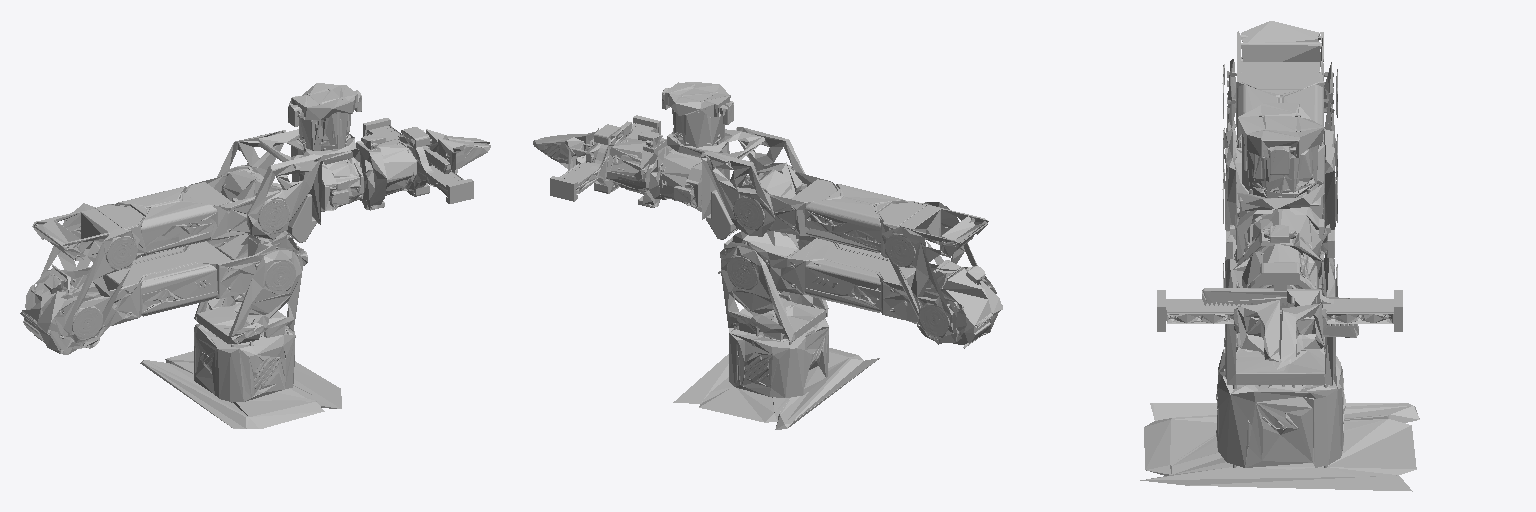
robot.urdf — b601_rs_catalog:
<?xml version="1.0" encoding="utf-8"?>
<!-- This URDF was automatically created by SolidWorks to URDF Exporter! Originally created by Stephen Brawner (brawner@gmail.com) 
     Commit Version: 1.6.0-4-g7f85cfe  Build Version: 1.6.7995.38578
     For more information, please see http://wiki.ros.org/sw_urdf_exporter -->
<robot
  name="b601_rs_catalog">
  <link
    name="base_link">
    <inertial>
      <origin
        xyz="2.87641888266442E-06 -0.000122302488725115 0.0243376121934547"
        rpy="0 0 0" />
      <mass
        value="1.1774" />
      <inertia
        ixx="0.00133040"
        ixy="0.00000001"
        ixz="0.00000000"
        iyy="0.00213119"
        iyz="0.00000000"
        izz="0.00275877" />
    </inertial>
    <visual>
      <origin
        xyz="0 0 0"
        rpy="0 0 0" />
      <geometry>
        <mesh
          filename="assets_catalog/base_link.STL" />
      </geometry>
      <material
        name="">
        <color
          rgba="0.752941176470588 0.752941176470588 0.752941176470588 1" />
      </material>
    </visual>
    <collision>
      <origin
        xyz="0 0 0"
        rpy="0 0 0" />
      <geometry>
        <mesh
          filename="assets_catalog/base_link.STL" />
      </geometry>
    </collision>
  </link>
  <link
    name="link1">
    <inertial>
      <origin
        xyz="0.00817652280320541 0.00122584211922395 0.0331419658967293"
        rpy="0 0 0" />
      <mass
        value="0.4655" />
      <inertia
        ixx="0.00025207"
        ixy="0.00000000"
        ixz="-0.00002832"
        iyy="0.00015464"
        iyz="0.00000000"
        izz="0.00023416" />
    </inertial>
    <visual>
      <origin
        xyz="0 0 0"
        rpy="0 0 0" />
      <geometry>
        <mesh
          filename="assets_catalog/link1.STL" />
      </geometry>
      <material
        name="">
        <color
          rgba="0.752941176470588 0.752941176470588 0.752941176470588 1" />
      </material>
    </visual>
    <collision>
      <origin
        xyz="0 0 0"
        rpy="0 0 0" />
      <geometry>
        <mesh
          filename="assets_catalog/link1.STL" />
      </geometry>
    </collision>
  </link>
  <joint
    name="joint1"
    type="revolute">
    <origin
      xyz="-0.00034283 -0.00098683 0.075"
      rpy="0 0 0" />
    <parent
      link="base_link" />
    <child
      link="link1" />
    <axis
      xyz="0 0 -1" />
    <limit
      lower="-2.8"
      upper="2.8"
      effort="36"
      velocity="50" />
  </joint>
  <link
    name="link2">
    <inertial>
      <origin
        xyz="-0.117864812717456 -0.00342226413942967 -0.0271551938501484"
        rpy="0 0 0" />
      <mass
        value="1.972" />
      <inertia
        ixx="0.00073374"
        ixy="-0.00000043"
        ixz="0.00000851"
        iyy="0.01255987"
        iyz="0.00000128"
        izz="0.01281387" />
    </inertial>
    <!-- <visual>
      <origin
        xyz="0 0 0"
        rpy="0 0 0" />
      <geometry>
        <mesh
          filename="assets_catalog/link2.STL" />
      </geometry>
      <material
        name="">
        <color
          rgba="0.752941176470588 0.752941176470588 0.752941176470588 1" />
      </material>
    </visual> -->
    <visual>
      <origin
        xyz="0 0 0"
        rpy="0 0 0" />
      <geometry>
        <mesh
          filename="assets_catalog/motor_2_3.STL" />
      </geometry>
      <material
        name="">
        <color
          rgba="0.752941176470588 0.752941176470588 0.752941176470588 1" />
      </material>
    </visual>
    <visual>
      <origin
        xyz="0 0 0"
        rpy="0 0 0" />
      <geometry>
        <mesh
          filename="assets_catalog/cnc2.STL" />
      </geometry>
      <material
        name="">
        <color
          rgba="0.752941176470588 0.752941176470588 0.752941176470588 1" />
      </material>
    </visual>
    <visual>
      <origin
        xyz="0 0 0"
        rpy="0 0 0" />
      <geometry>
        <mesh
          filename="assets_catalog/pla2_black.STL" />
      </geometry>
      <material
        name="">
        <color
          rgba="0.752941176470588 0.752941176470588 0.752941176470588 1" />
      </material>
    </visual>
    <visual>
      <origin
        xyz="0 0 0"
        rpy="0 0 0" />
      <geometry>
        <mesh
          filename="assets_catalog/pla2_green.STL" />
      </geometry>
      <material
        name="">
        <color
          rgba="0.752941176470588 0.752941176470588 0.752941176470588 1" />
      </material>
    </visual>
    <collision>
      <origin
        xyz="0 0 0"
        rpy="0 0 0" />
      <geometry>
        <mesh
          filename="assets_catalog/link2.STL" />
      </geometry>
    </collision>
  </link>
  <joint
    name="joint2"
    type="revolute">
    <origin
      xyz="0.020343 0.027237 0.07"
      rpy="-1.5708 0 0" />
    <parent
      link="link1" />
    <child
      link="link2" />
    <!-- Axis -Z: Damiao/Seeed motor +angle is opposite SolidWorks export +Z (fixes virtual up/down). -->
    <axis
      xyz="0 0 -1" />
    <!-- Seeed soft limit shoulder_lift ≈ (-170°, +1°); DM teleop is negative. -->
    <limit
      lower="-3.14"
      upper="0.05"
      effort="36"
      velocity="50" />
  </joint>
  <link
    name="link3">
    <inertial>
      <origin
        xyz="0.103427154487799 -0.0664137912104635 -0.0271068687716704"
        rpy="0 0 0" />
      <mass
        value="1.062" />
      <inertia
        ixx="0.00046807"
        ixy="-0.00003456"
        ixz="-0.00004260"
        iyy="0.00632695"
        iyz="0.00000006"
        izz="0.00648221" />
    </inertial>
    <!--  <visual>
      <origin
        xyz="0 0 0"
        rpy="0 0 0" />
      <geometry>
        <mesh
          filename="assets_catalog/link3.STL" />
      </geometry>
      <material
        name="">
        <color
          rgba="0.752941176470588 0.752941176470588 0.752941176470588 1" />
      </material>
    </visual> -->
    <visual>
      <origin
        xyz="0 0 0"
        rpy="0 0 0" />
      <geometry>
        <mesh
          filename="assets_catalog/cnc3.STL" />
      </geometry>
      <material
        name="">
        <color
          rgba="0.752941176470588 0.752941176470588 0.752941176470588 1" />
      </material>
    </visual>
    <visual>
      <origin
        xyz="0 0 0"
        rpy="0 0 0" />
      <geometry>
        <mesh
          filename="assets_catalog/motor_4.STL" />
      </geometry>
      <material
        name="">
        <color
          rgba="0.752941176470588 0.752941176470588 0.752941176470588 1" />
      </material>
    </visual>
    <visual>
      <origin
        xyz="0 0 0"
        rpy="0 0 0" />
      <geometry>
        <mesh
          filename="assets_catalog/pla3_black.STL" />
      </geometry>
      <material
        name="">
        <color
          rgba="0.752941176470588 0.752941176470588 0.752941176470588 1" />
      </material>
    </visual>
    <visual>
      <origin
        xyz="0 0 0"
        rpy="0 0 0" />
      <geometry>
        <mesh
          filename="assets_catalog/pla3_green.STL" />
      </geometry>
      <material
        name="">
        <color
          rgba="0.752941176470588 0.752941176470588 0.752941176470588 1" />
      </material>
    </visual>
    <collision>
      <origin
        xyz="0 0 0"
        rpy="0 0 0" />
      <geometry>
        <mesh
          filename="assets_catalog/link3.STL" />
      </geometry>
    </collision>
  </link>
  <joint
    name="joint3"
    type="revolute">
    <origin
      xyz="-0.236 0 0"
      rpy="0 0 0" />
    <parent
      link="link2" />
    <child
      link="link3" />
    <axis
      xyz="0 0 -1" />
    <!-- Symmetric: web applies B601_DISPLAY_SIGN joint3=-1 (motor neg → visual pos). -->
    <limit
      lower="-3.5"
      upper="3.5"
      effort="36"
      velocity="50" />
  </joint>
  <link
    name="link4">
    <inertial>
      <origin
        xyz="0.0475544540775559 -0.0441113470158517 -0.0314111924918381"
        rpy="0 0 0" />
      <mass
        value="0.66" />
      <inertia
        ixx="0.00045986"
        ixy="0.00024219"
        ixz="-0.0"
        iyy="0.00075258"
        iyz="-0.0"
        izz="0.00066742" />
    </inertial>
    <!-- <visual>
      <origin
        xyz="0 0 0"
        rpy="0 0 0" />
      <geometry>
        <mesh
          filename="assets_catalog/link4.STL" />
      </geometry>
      <material
        name="">
        <color
          rgba="0.752941176470588 0.752941176470588 0.752941176470588 1" />
      </material>
    </visual> -->
    <visual>
      <origin
        xyz="0 0 0"
        rpy="0 0 0" />
      <geometry>
        <mesh
          filename="assets_catalog/motor_5.STL" />
      </geometry>
      <material
        name="">
        <color
          rgba="0.752941176470588 0.752941176470588 0.752941176470588 1" />
      </material>
    </visual>
    <visual>
      <origin
        xyz="0 0 0"
        rpy="0 0 0" />
      <geometry>
        <mesh
          filename="assets_catalog/cnc4.STL" />
      </geometry>
      <material
        name="">
        <color
          rgba="0.752941176470588 0.752941176470588 0.752941176470588 1" />
      </material>
    </visual>
    <collision>
      <origin
        xyz="0 0 0"
        rpy="0 0 0" />
      <geometry>
        <mesh
          filename="assets_catalog/link4.STL" />
      </geometry>
    </collision>
  </link>
  <joint
    name="joint4"
    type="revolute">
    <origin
      xyz="0.228 -0.072746 0.0045"
      rpy="0 0 0" />
    <parent
      link="link3" />
    <child
      link="link4" />
    <axis
      xyz="0 0 -1" />
    <limit
      lower="-1.57"
      upper="1.57"
      effort="14"
      velocity="40" />
  </joint>
  <link
    name="link5">
    <inertial>
      <origin
        xyz="0.0114400622356175 4.7907739316217E-06 0.0380487481818926"
        rpy="0 0 0" />
      <mass
        value="0.150120457182895" />
      <inertia
        ixx="7.34238025911107E-05"
        ixy="1.35700947009798E-08"
        ixz="-8.58146433770359E-07"
        iyy="5.5153884237714E-05"
        iyz="-1.32742144977931E-08"
        izz="5.29920095811017E-05" />
    </inertial>
    <!-- <visual>
      <origin
        xyz="0 0 0"
        rpy="0 0 0" />
      <geometry>
        <mesh
          filename="assets_catalog/link5.STL" />
      </geometry>
      <material
        name="">
        <color
          rgba="0.752941176470588 0.752941176470588 0.752941176470588 1" />
      </material>
    </visual> -->
    <visual>
      <origin
        xyz="0 0 0"
        rpy="0 0 0" />
      <geometry>
        <mesh
          filename="assets_catalog/motor_6.STL" />
      </geometry>
      <material
        name="">
        <color
          rgba="0.752941176470588 0.752941176470588 0.752941176470588 1" />
      </material>
    </visual>
    <visual>
      <origin
        xyz="0 0 0"
        rpy="0 0 0" />
      <geometry>
        <mesh
          filename="assets_catalog/cnc5.STL" />
      </geometry>
      <material
        name="">
        <color
          rgba="0.752941176470588 0.752941176470588 0.752941176470588 1" />
      </material>
    </visual>
    <visual>
      <origin
        xyz="0 0 0"
        rpy="0 0 0" />
      <geometry>
        <mesh
          filename="assets_catalog/pla5_green.STL" />
      </geometry>
      <material
        name="">
        <color
          rgba="0.752941176470588 0.752941176470588 0.752941176470588 1" />
      </material>
    </visual>
    <collision>
      <origin
        xyz="0 0 0"
        rpy="0 0 0" />
      <geometry>
        <mesh
          filename="assets_catalog/link5.STL" />
      </geometry>
    </collision>
  </link>
  <joint
    name="joint5"
    type="revolute">
    <origin
      xyz="0.087 -0.048 -0.03075"
      rpy="-1.5708 0 0" />
    <parent
      link="link4" />
    <child
      link="link5" />
    <axis
      xyz="0 0 -1" />
    <limit
      lower="-1.57"
      upper="1.57"
      effort="14"
      velocity="40" />
  </joint>
  <link
    name="link6">
    <inertial>
      <origin
        xyz="1.80196022567525E-05 2.48334592051007E-08 0.00434805764057547"
        rpy="0 0 0" />
      <mass
        value="0.03" />
      <inertia
        ixx="4.42273835852359E-06"
        ixy="3.16758463739482E-12"
        ixz="1.51852818442002E-10"
        iyy="4.37185522080034E-06"
        iyz="-2.21864017603015E-12"
        izz="8.54299378942051E-06" />
    </inertial>
    <visual>
      <origin
        xyz="0 0 0"
        rpy="0 0 0" />
      <geometry>
        <mesh
          filename="assets_catalog/link6.STL" />
      </geometry>
      <material
        name="">
        <color
          rgba="0.752941176470588 0.752941176470588 0.752941176470588 1" />
      </material>
    </visual>
    <collision>
      <origin
        xyz="0 0 0"
        rpy="0 0 0" />
      <geometry>
        <mesh
          filename="assets_catalog/link6.STL" />
      </geometry>
    </collision>
  </link>
  <joint
    name="joint6"
    type="revolute">
    <origin
      xyz="0.0365 0 0.048"
      rpy="0 1.5708 0" />
    <parent
      link="link5" />
    <child
      link="link6" />
    <axis
      xyz="0 0 -1" />
    <limit
      lower="-3.14"
      upper="3.14"
      effort="14"
      velocity="40" />
  </joint>
  <link
    name="gripper_end">
    <inertial>
      <origin
        xyz="-0.112751692515958 0.000128443070436966 -5.72602449749882E-06"
        rpy="0 0 0" />
      <mass
        value="0.65" />
      <inertia
        ixx="0.00037354"
        ixy="-0.00000011"
        ixz="0.00000050"
        iyy="0.00015830"
        iyz="0.00000348"
        izz="0.00045353" />
    </inertial>
    <!-- <visual>
      <origin
        xyz="0 0 0"
        rpy="0 0 0" />
      <geometry>
        <mesh
          filename="assets_catalog/gripper_end.STL" />
      </geometry>
      <material
        name="">
        <color
          rgba="0.752941176470588 0.752941176470588 0.752941176470588 1" />
      </material>
    </visual> -->
    <visual>
      <origin
        xyz="0 0 0"
        rpy="0 0 0" />
      <geometry>
        <mesh
          filename="assets_catalog/pla7_green.STL" />
      </geometry>
      <material
        name="">
        <color
          rgba="0.752941176470588 0.752941176470588 0.752941176470588 1" />
      </material>
    </visual>
    <visual>
      <origin
        xyz="0 0 0"
        rpy="0 0 0" />
      <geometry>
        <mesh
          filename="assets_catalog/cnc7.STL" />
      </geometry>
      <material
        name="">
        <color
          rgba="0.752941176470588 0.752941176470588 0.752941176470588 1" />
      </material>
    </visual>
    <visual>
      <origin
        xyz="0 0 0"
        rpy="0 0 0" />
      <geometry>
        <mesh
          filename="assets_catalog/motor_7.STL" />
      </geometry>
      <material
        name="">
        <color
          rgba="0.752941176470588 0.752941176470588 0.752941176470588 1" />
      </material>
    </visual>
    <collision>
      <origin
        xyz="0 0 0"
        rpy="0 0 0" />
      <geometry>
        <mesh
          filename="assets_catalog/gripper_end.STL" />
      </geometry>
    </collision>
  </link>
  <joint
    name="j_gripper_end"
    type="fixed">
    <origin
      xyz="0 0 0.16621"
      rpy="3.1416 -1.5708 0" />
    <parent
      link="link6" />
    <child
      link="gripper_end" />
    <axis
      xyz="0 0 0" />
  </joint>
  <link
    name="gripper_left">
    <inertial>
      <origin
        xyz="-0.00218008703135955 0.0187090355934181 0.00932188568692145"
        rpy="0 0 0" />
      <mass
        value="0.0752" />
      <inertia
        ixx="1.09877964176176E-05"
        ixy="0"
        ixz="0"
        iyy="9.50146036720166E-06"
        iyz="0"
        izz="9.30779991911125E-06" />
    </inertial>
    <!-- <visual>
      <origin
        xyz="0 0 0"
        rpy="0 0 0" />
      <geometry>
        <mesh
          filename="assets_catalog/gripper_left.STL" />
      </geometry>
      <material
        name="">
        <color
          rgba="0.752941176470588 0.752941176470588 0.752941176470588 1" />
      </material>
    </visual> -->
    <visual>
      <origin
        xyz="0 0 0"
        rpy="0 0 0" />
      <geometry>
        <mesh
          filename="assets_catalog/pla_left.STL" />
      </geometry>
      <material
        name="">
        <color
          rgba="0.752941176470588 0.752941176470588 0.752941176470588 1" />
      </material>
    </visual>
    <visual>
      <origin
        xyz="0 0 0"
        rpy="0 0 0" />
      <geometry>
        <mesh
          filename="assets_catalog/cnc_left.STL" />
      </geometry>
      <material
        name="">
        <color
          rgba="0.752941176470588 0.752941176470588 0.752941176470588 1" />
      </material>
    </visual>
    <collision>
      <origin
        xyz="0 0 0"
        rpy="0 0 0" />
      <geometry>
        <mesh
          filename="assets_catalog/gripper_left.STL" />
      </geometry>
    </collision>
  </link>
  <joint
    name="gripper_joint1"
    type="prismatic">
    <origin
      xyz="-0.041939 -7.3385E-05 0"
      rpy="1.5708 -1.5708 0" />
    <parent
      link="gripper_end" />
    <child
      link="gripper_left" />
    <axis
      xyz="0 0 1" />
    <limit
      lower="0"
      upper="0.05"
      effort="500"
      velocity="10" />
  </joint>
  <link
    name="gripper_right">
    <inertial>
      <origin
        xyz="0.00218008703135955 -0.018709035593418 0.00932188568692151"
        rpy="0 0 0" />
      <mass
        value="0.0752" />
      <inertia
        ixx="1.09877964176176E-05"
        ixy="0"
        ixz="0"
        iyy="9.50146036720166E-06"
        iyz="0"
        izz="9.30779991911125E-06" />
    </inertial>
    <!-- <visual>
      <origin
        xyz="0 0 0"
        rpy="0 0 0" />
      <geometry>
        <mesh
          filename="assets_catalog/gripper_right.STL" />
      </geometry>
      <material
        name="">
        <color
          rgba="0.752941176470588 0.752941176470588 0.752941176470588 1" />
      </material>
    </visual> -->
    <visual>
      <origin
        xyz="0 0 0"
        rpy="0 0 0" />
      <geometry>
        <mesh
          filename="assets_catalog/pla_right.STL" />
      </geometry>
      <material
        name="">
        <color
          rgba="0.752941176470588 0.752941176470588 0.752941176470588 1" />
      </material>
    </visual>
    <visual>
      <origin
        xyz="0 0 0"
        rpy="0 0 0" />
      <geometry>
        <mesh
          filename="assets_catalog/cnc_right.STL" />
      </geometry>
      <material
        name="">
        <color
          rgba="0.752941176470588 0.752941176470588 0.752941176470588 1" />
      </material>
    </visual>
    <collision>
      <origin
        xyz="0 0 0"
        rpy="0 0 0" />
      <geometry>
        <mesh
          filename="assets_catalog/gripper_right.STL" />
      </geometry>
    </collision>
  </link>
  <joint
    name="gripper_joint2"
    type="prismatic">
    <origin
      xyz="-0.041939 7.3385E-05 0"
      rpy="-1.5708 -1.5708 0" />
    <parent
      link="gripper_end" />
    <child
      link="gripper_right" />
    <axis
      xyz="0 0 1" />
    <limit
      lower="0"
      upper="0.0715"
      effort="500"
      velocity="10" />
  </joint>
</robot>

--- Render facts (derived) ---
Views: 3 orthographic renders of the robot side by side, from view 1: azimuth 30°, elevation 25°; view 2: azimuth 150°, elevation 25°; view 3: azimuth 270°, elevation 25°.
Model b601_rs_catalog with 10 links and 9 joints (6 revolute, 2 prismatic, 1 fixed), rooted at base_link, posed every joint at zero.
Links seen in each view (by area): view 1: link3, link2, base_link, link4, link1, gripper_end, link5, gripper_left, gripper_right, link6; view 2: link3, link2, base_link, link4, link1, gripper_end, link5, gripper_right; view 3: base_link, link4, link3, gripper_end, link1, gripper_right, link5, gripper_left.
Boxes of the visible links, x1,y1,x2,y2 form: link3: [32, 165, 282, 342]; link2: [20, 231, 307, 354]; base_link: [140, 323, 341, 428]; link4: [217, 83, 361, 239]; link1: [194, 250, 301, 343]; gripper_end: [356, 118, 473, 210]; link5: [286, 146, 363, 242]; gripper_left: [427, 139, 490, 186]; gripper_right: [422, 129, 489, 173]; link6: [351, 148, 374, 200]; link3: [741, 162, 988, 338]; link2: [718, 231, 1002, 348]; base_link: [673, 319, 879, 429]; link4: [662, 82, 804, 236]; link1: [721, 246, 828, 341]; gripper_end: [550, 115, 667, 207]; link5: [659, 142, 737, 239]; gripper_right: [533, 121, 632, 170]; base_link: [1140, 349, 1419, 491]; link4: [1222, 103, 1337, 230]; link3: [1222, 21, 1337, 218]; gripper_end: [1157, 225, 1402, 354]; link1: [1223, 255, 1337, 385]; gripper_right: [1202, 288, 1326, 362]; link5: [1226, 193, 1334, 262]; gripper_left: [1234, 300, 1358, 361].
Size in the robot's own frame: 0.5619 by 0.2094 by 0.3207 metres.
Meshes: 23 distinct files referenced, 23 mesh visuals loaded (23 binary STL).
